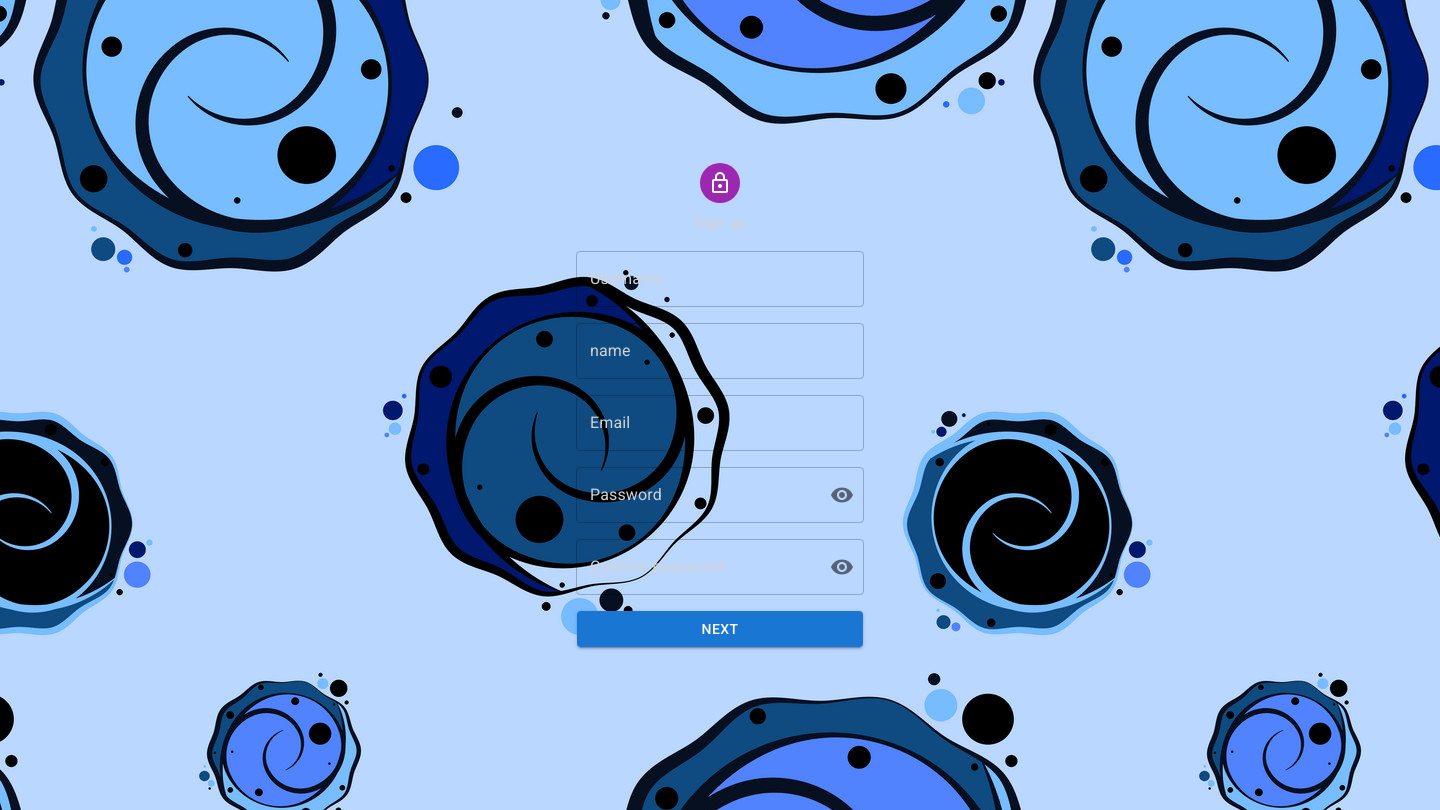
Scenario: SignUp Component › shows success message on successful signup
// Fill the form
Type "testuser" into the field labelled "Username" at {"x": 720, "y": 279}, box [576,251,864,307]
Type "Test User" into the field labelled "name" at {"x": 720, "y": 351}, box [576,323,864,379]
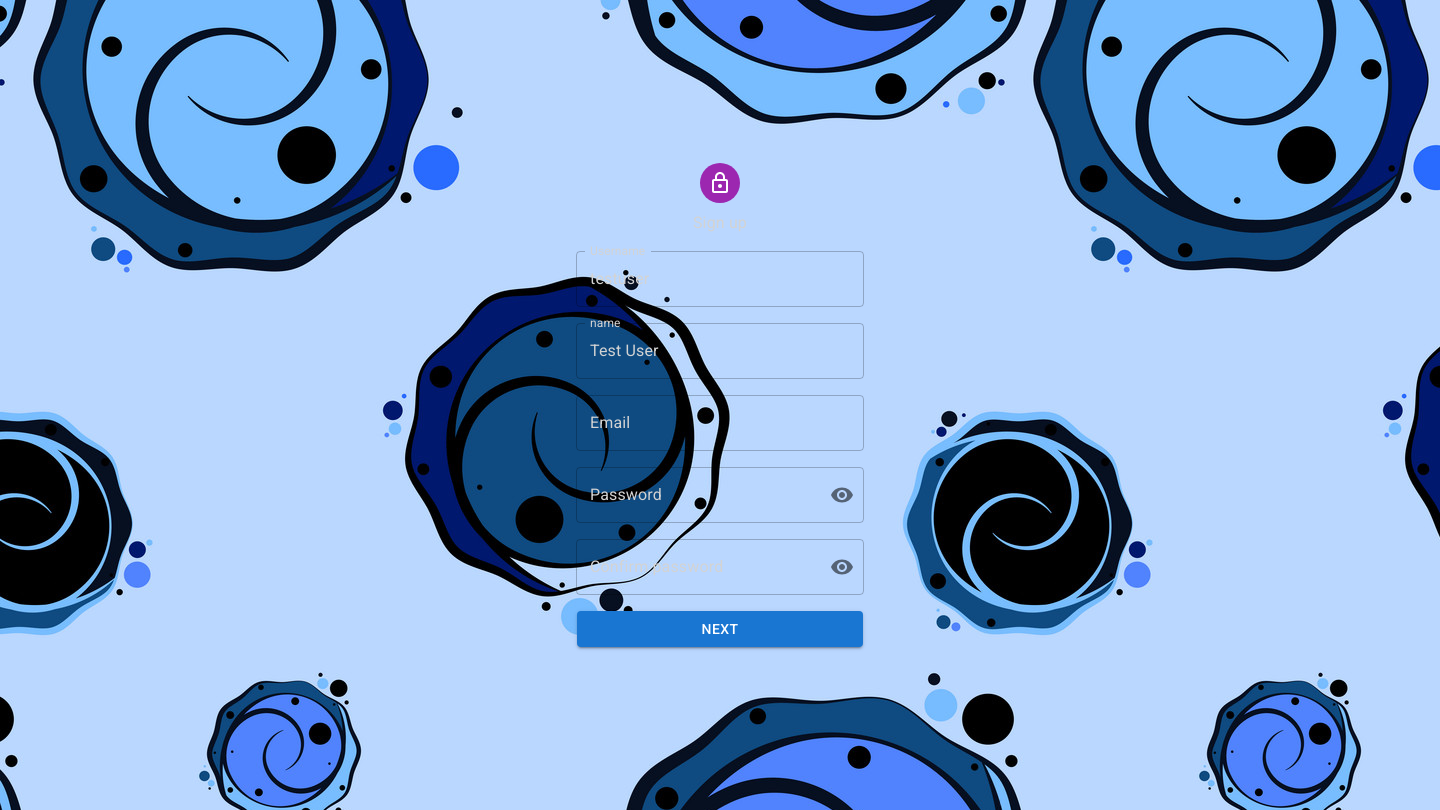
Type "test@example.com" into the field labelled "Email" at {"x": 720, "y": 423}, box [576,395,864,451]
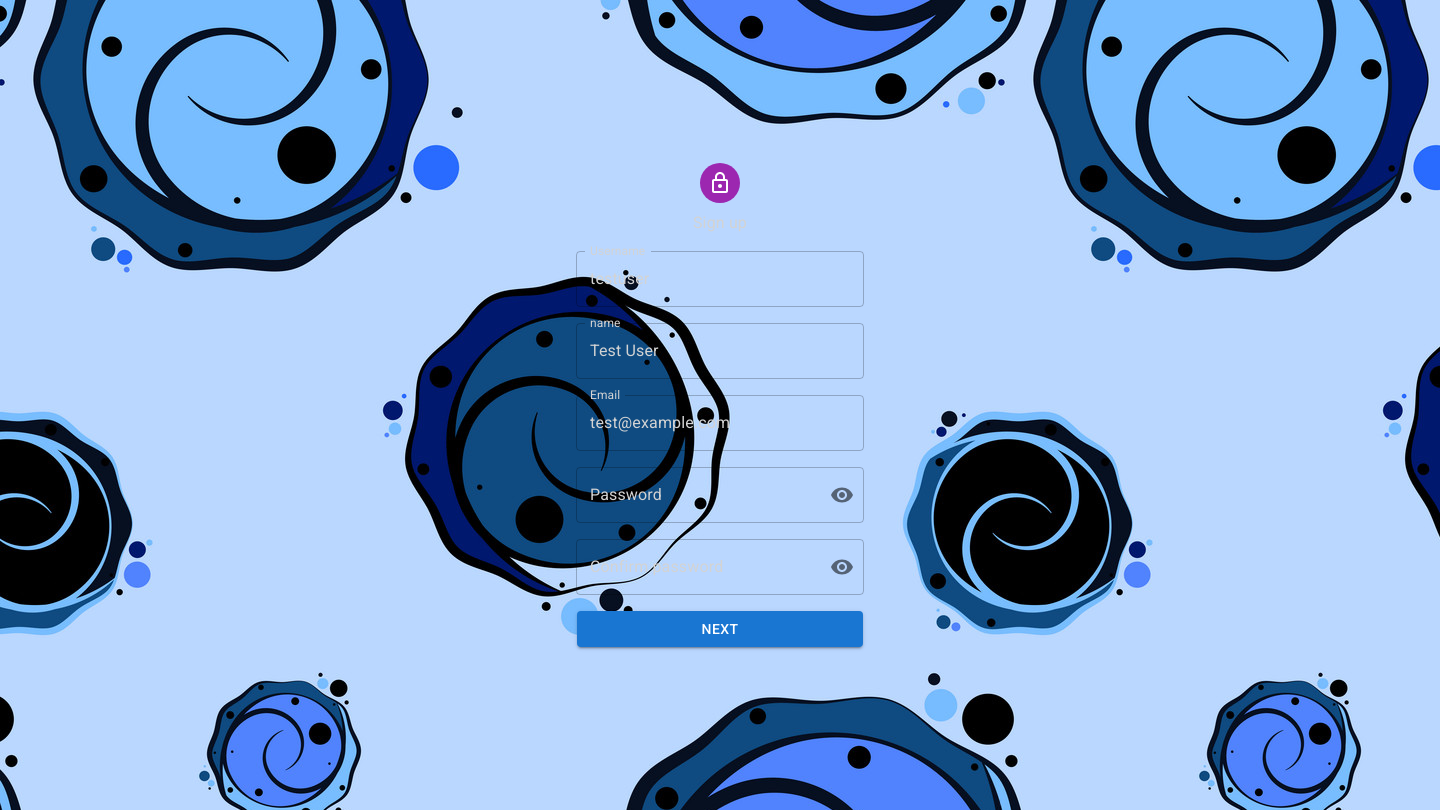
Type "password1" into the password field with id "outlined-adornment-password-signup" at {"x": 695, "y": 495}, box [576,467,814,523]
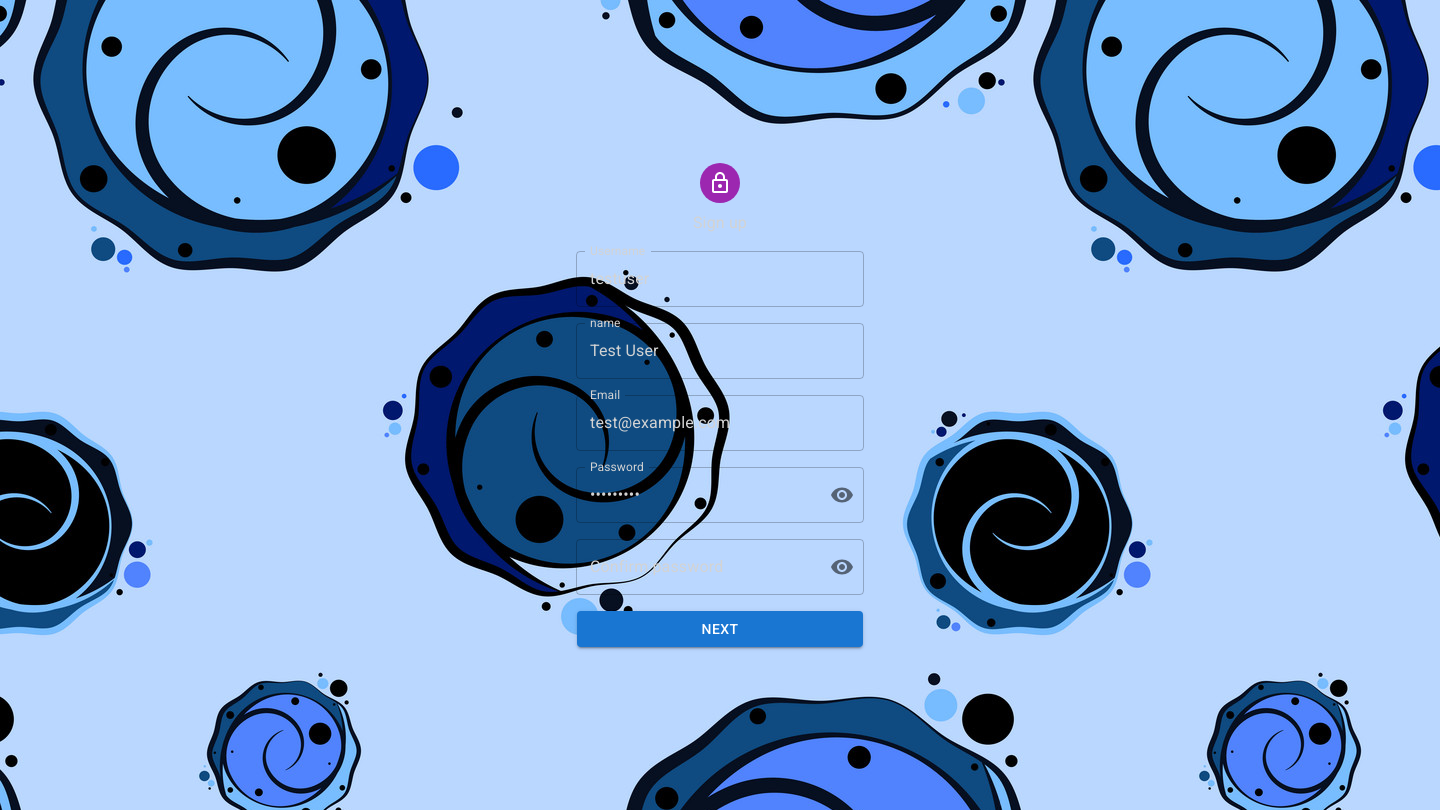
Type "password1" into the password field with id "outlined-adornment-retypepassword-signup" at {"x": 695, "y": 567}, box [576,539,814,595]
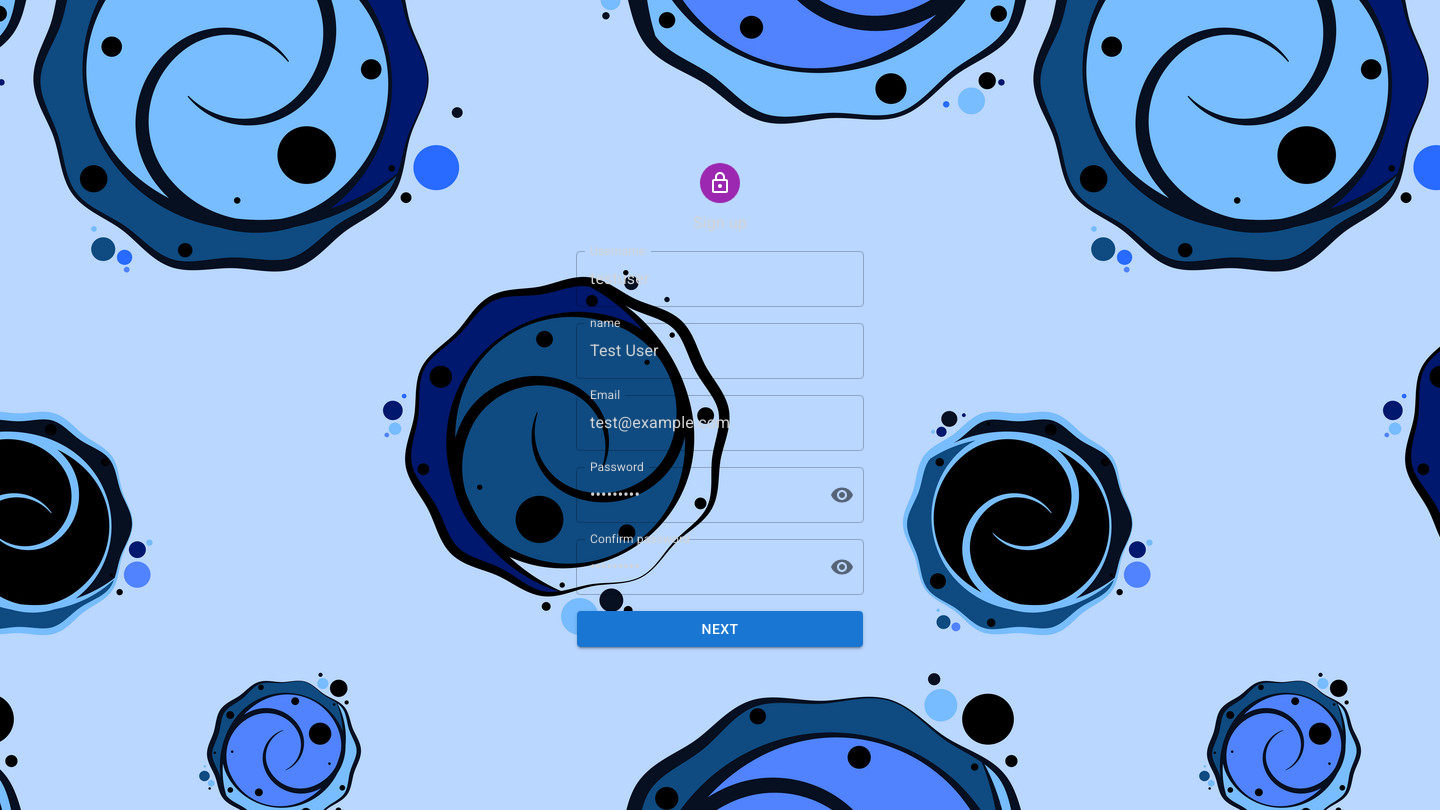
// Proceed to the next step
Click the button "Next" at {"x": 720, "y": 629}, box [577,611,863,647]
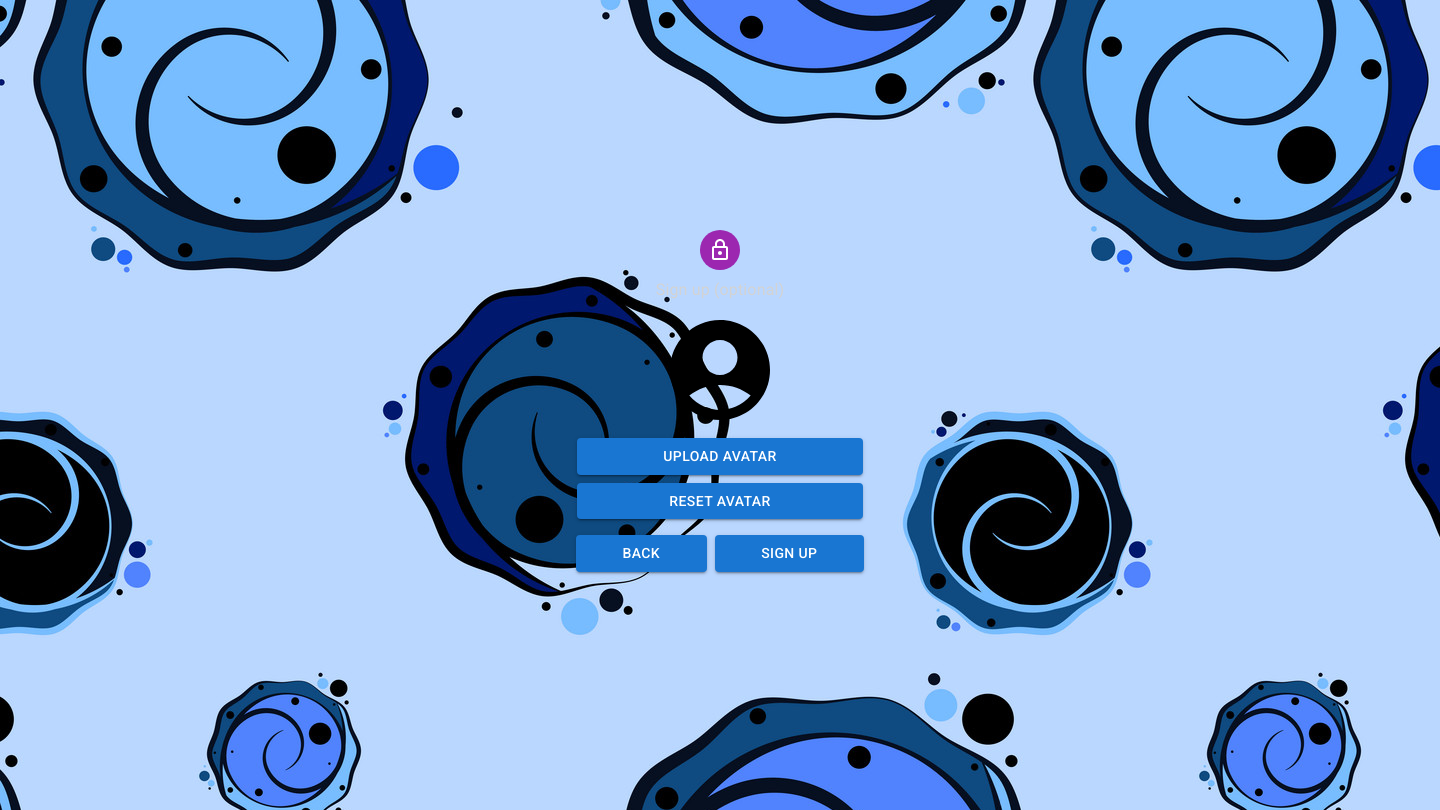
Now the button "Upload Avatar" is shown, box [577,438,863,475]
// Click sign up button
Click the button "SIGN UP" at {"x": 789, "y": 554}, box [715,535,864,572]
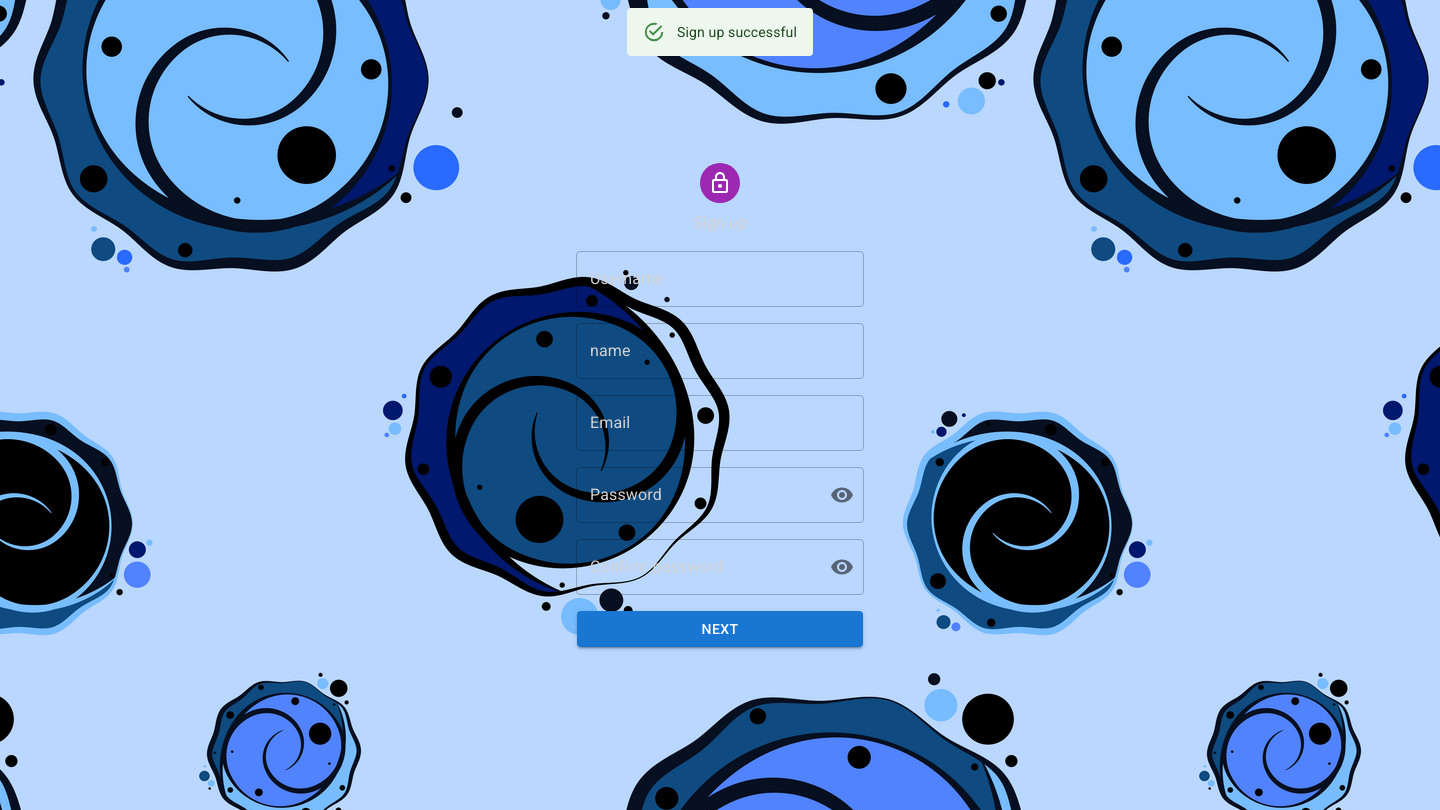
Now the text "Sign up successful" is shown, box [677,24,797,40]
